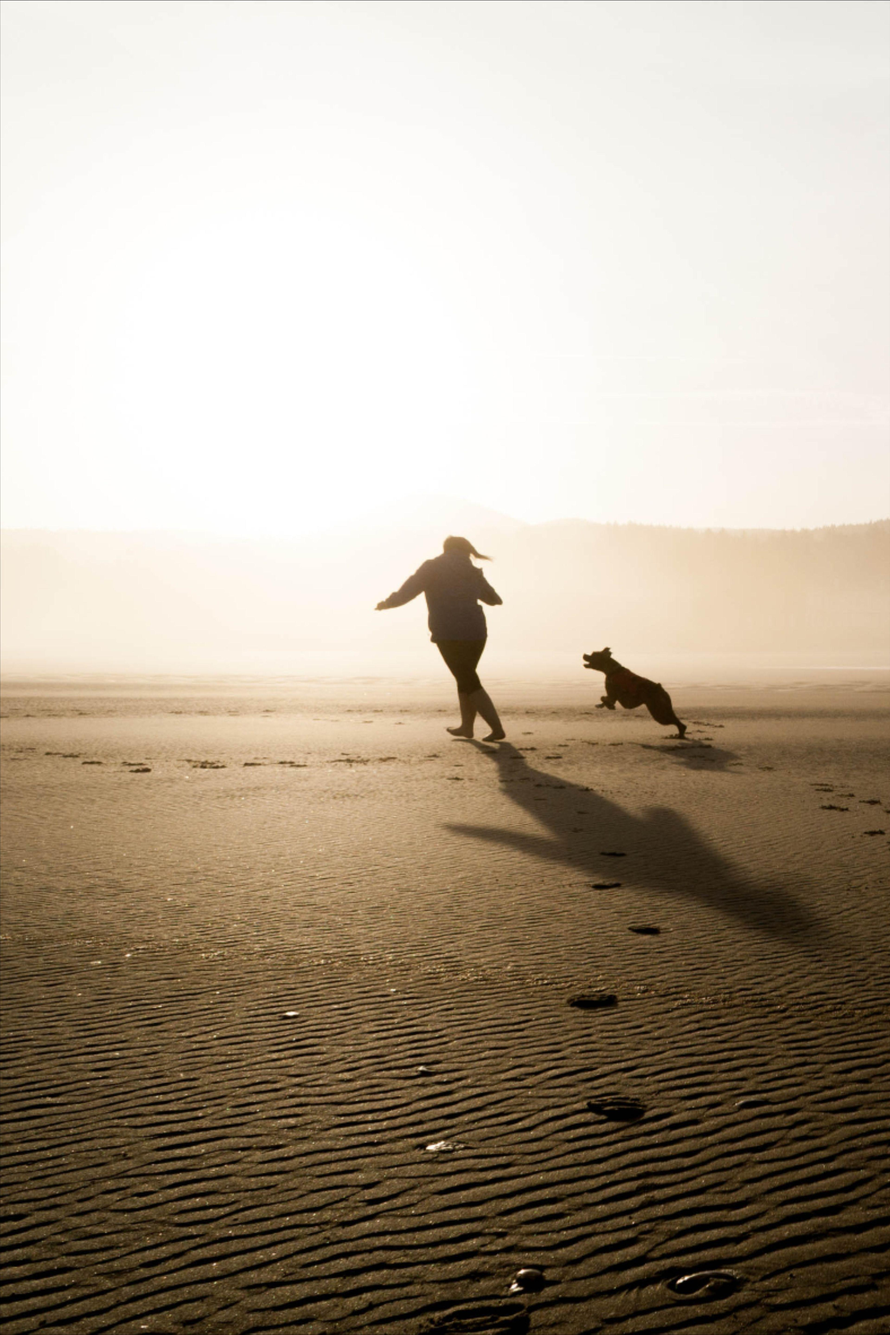adult_dog: (579, 645, 686, 740)
non-dog: (371, 536, 508, 746)
